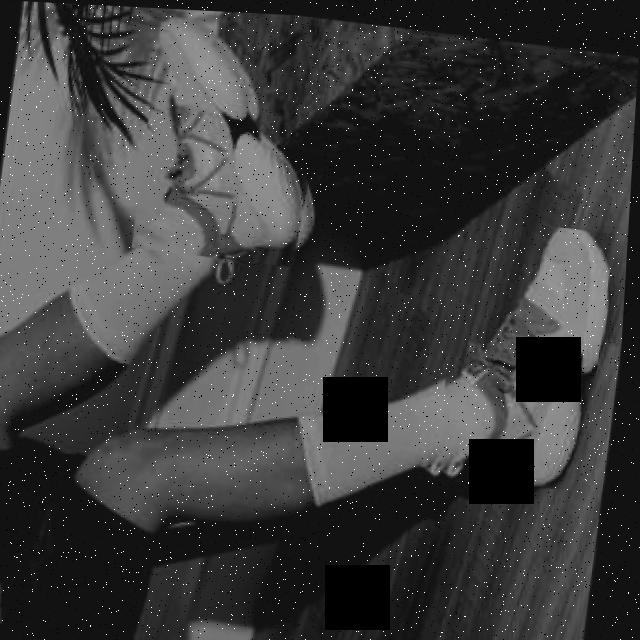shoe: (426, 208, 617, 492), (133, 10, 337, 266)
